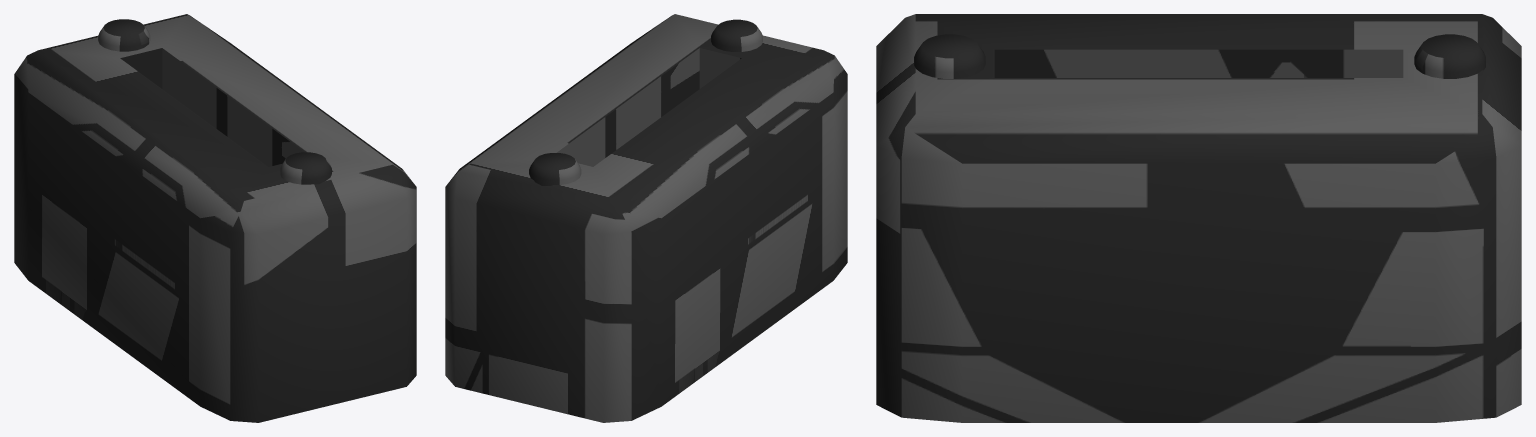
The model's file is RichagOsnova.fbx.
The picture shows the model from 3 angles, left to right: view 1: azimuth 30°, elevation 25°; view 2: azimuth 150°, elevation 25°; view 3: azimuth 270°, elevation 25°; orthographic projection. The views are drawn at different scales.
Visible parts, largest first — view 1: ОтКрана; view 2: ОтКрана; view 3: ОтКрана.
Part boxes in pixels (<box>): ОтКрана: <box>14,14,416,422</box>; ОтКрана: <box>445,14,847,422</box>; ОтКрана: <box>876,14,1521,422</box>.
Size of the model in its own units: 2 by 2.12 by 4.02.
